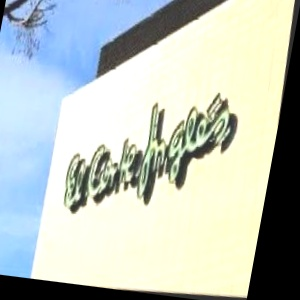corte_ingles: (13, 87, 279, 220)
